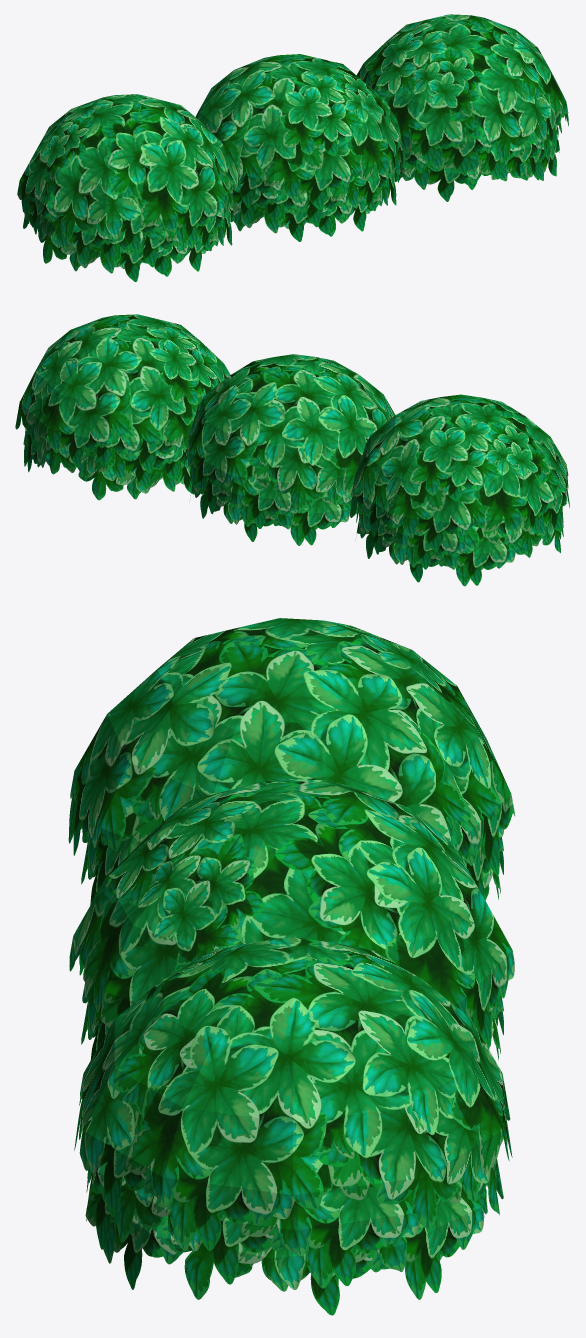
File: FinalArbusto.fbx
3 renders of one model, top to bottom at view 1: azimuth 30°, elevation 25°; view 2: azimuth 150°, elevation 25°; view 3: azimuth 270°, elevation 25°, orthographic. The views are drawn at different scales.
Parts seen in each view (by area): view 1: pSphere7, pSphere1, pSphere4, pSphere9, pSphere8, pSphere6, pSphere5, pSphere3, pSphere2; view 2: pSphere7, pSphere1, pSphere4, pSphere9, pSphere8, pSphere5, pSphere6, pSphere2, pSphere3; view 3: pSphere1, pSphere7, pSphere4, pSphere2, pSphere3, pSphere9, pSphere6.
Boxes of the visible parts, x1,y1,x2,y2 form: pSphere7: (17, 94, 241, 253); pSphere1: (356, 14, 568, 175); pSphere4: (195, 54, 405, 210); pSphere9: (23, 189, 232, 267); pSphere8: (28, 203, 234, 281); pSphere6: (228, 162, 392, 227); pSphere5: (232, 170, 398, 241); pSphere3: (399, 135, 559, 201); pSphere2: (398, 122, 561, 181); pSphere7: (349, 394, 569, 552); pSphere1: (15, 314, 230, 473); pSphere4: (183, 354, 395, 511); pSphere9: (356, 505, 563, 569); pSphere8: (356, 506, 563, 586); pSphere5: (189, 487, 356, 545); pSphere6: (190, 476, 359, 528); pSphere2: (25, 424, 190, 488); pSphere3: (23, 430, 194, 500); pSphere1: (74, 937, 512, 1250); pSphere7: (68, 618, 515, 875); pSphere4: (69, 778, 514, 1047); pSphere2: (86, 1162, 499, 1288); pSphere3: (85, 1159, 503, 1315); pSphere9: (82, 833, 503, 899); pSphere6: (82, 971, 503, 1047).
Bounding box in the file's own units: 5.25 × 1.31 × 1.99.
